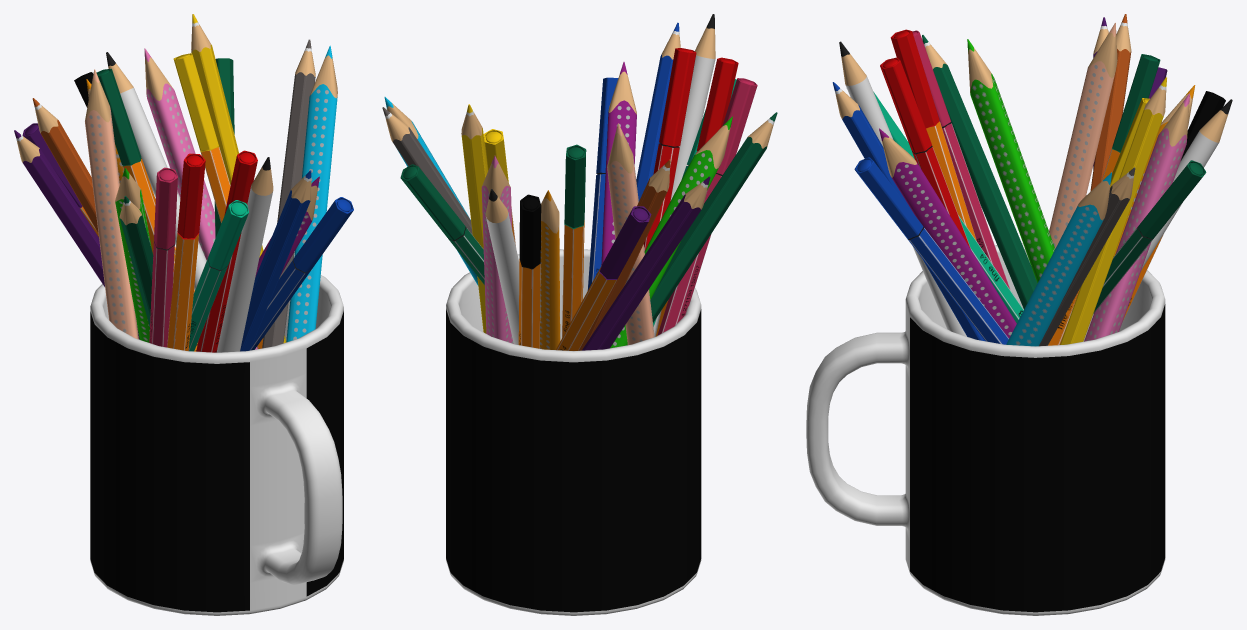
3 renders of one model, left to right at view 1: azimuth 30°, elevation 25°; view 2: azimuth 150°, elevation 25°; view 3: azimuth 270°, elevation 25°, orthographic. The views are drawn at different scales.
Visible parts, largest first — view 1: Tasse_1, Buntstift 2.001_21, Buntstift 2.002_22, Fineliner.005_13, Bleistift.002_20, Buntstift 2.006_25, Filzstift.005_12, Buntstift 1.002_15, Buntstift 1.006_19, Buntstift 1.004_17, Fineliner.002_7, Filzstift.002_6 (+11 smaller); view 2: Tasse_1, Buntstift 1.003_16, Buntstift 1.004_17, Fineliner.004_11, Fineliner.001_3, Buntstift 2.001_21, Fineliner.003_9, Filzstift.005_12, Filzstift.004_10, Buntstift 2.005_24, Buntstift 2.006_25, Filzstift.003_8 (+12 smaller); view 3: Tasse_1, Buntstift 2.003_23, Buntstift 1.003_16, Buntstift 2.004_14, Buntstift 2.001_21, Buntstift 2.006_25, Buntstift 2.002_22, Filzstift.002_6, Buntstift 1.005_18, Filzstift.004_10, Fineliner.005_13, Filzstift.003_8 (+10 smaller).
Part boxes in pixels (left/top/right/bottom): Tasse_1: left=90, top=275, right=343, bottom=615; Buntstift 2.001_21: left=85, top=69, right=138, bottom=339; Buntstift 2.002_22: left=286, top=45, right=337, bottom=342; Fineliner.005_13: left=167, top=153, right=205, bottom=350; Bleistift.002_20: left=216, top=157, right=273, bottom=352; Buntstift 2.006_25: left=144, top=48, right=257, bottom=349; Filzstift.005_12: left=149, top=167, right=177, bottom=347; Buntstift 1.002_15: left=240, top=170, right=311, bottom=351; Buntstift 1.006_19: left=262, top=39, right=315, bottom=348; Buntstift 1.004_17: left=14, top=130, right=139, bottom=339; Fineliner.002_7: left=173, top=53, right=263, bottom=348; Filzstift.002_6: left=250, top=197, right=353, bottom=350; Tasse_1: left=446, top=249, right=701, bottom=615; Buntstift 1.003_16: left=627, top=112, right=777, bottom=345; Buntstift 1.004_17: left=582, top=176, right=710, bottom=350; Fineliner.004_11: left=562, top=144, right=586, bottom=337; Fineliner.001_3: left=556, top=206, right=651, bottom=350; Buntstift 2.001_21: left=607, top=123, right=654, bottom=344; Fineliner.003_9: left=518, top=194, right=541, bottom=348; Filzstift.005_12: left=657, top=78, right=757, bottom=335; Filzstift.004_10: left=644, top=48, right=696, bottom=250; Buntstift 2.005_24: left=540, top=190, right=560, bottom=349; Buntstift 2.006_25: left=481, top=156, right=513, bottom=343; Filzstift.003_8: left=400, top=164, right=484, bottom=284; Tasse_1: left=806, top=243, right=1165, bottom=615; Buntstift 2.003_23: left=967, top=39, right=1054, bottom=282; Buntstift 1.003_16: left=922, top=35, right=1037, bottom=309; Buntstift 2.004_14: left=879, top=128, right=1016, bottom=338; Buntstift 2.001_21: left=1049, top=22, right=1117, bottom=248; Buntstift 2.006_25: left=1084, top=93, right=1189, bottom=341; Buntstift 2.002_22: left=1006, top=172, right=1111, bottom=346; Filzstift.002_6: left=854, top=157, right=1008, bottom=344; Buntstift 1.005_18: left=1060, top=77, right=1166, bottom=344; Filzstift.004_10: left=880, top=57, right=971, bottom=249; Fineliner.005_13: left=890, top=29, right=976, bottom=241; Filzstift.003_8: left=1093, top=160, right=1206, bottom=313.
Bounding box in the file's own units: 0.1517 × 0.2233 × 0.1709.
36 materials, 23 textured.
